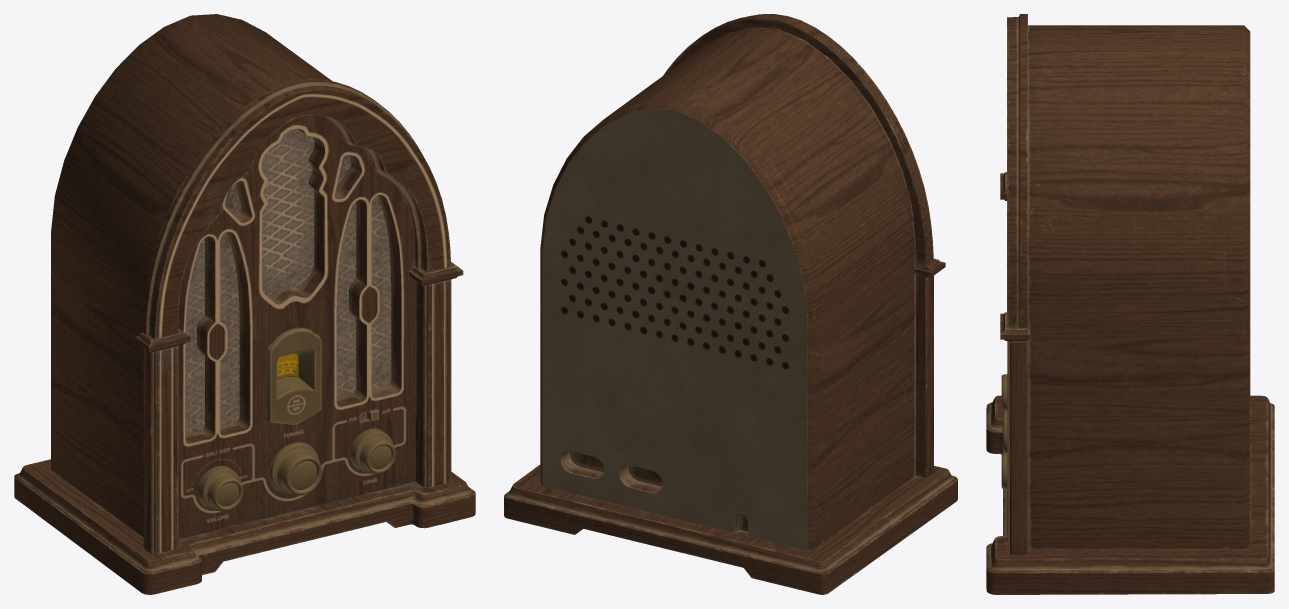
The model's file is cathedral_radio.glb.
3 renders of one model, left to right at view 1: azimuth 30°, elevation 25°; view 2: azimuth 150°, elevation 25°; view 3: azimuth 270°, elevation 25°, orthographic. The views are drawn at different scales.
Visible parts, largest first — view 1: Cathedral_Radio; view 2: Cathedral_Radio; view 3: Cathedral_Radio.
Part boxes in pixels (left/top/right/bottom): Cathedral_Radio: left=14, top=14, right=475, bottom=594; Cathedral_Radio: left=504, top=14, right=957, bottom=594; Cathedral_Radio: left=986, top=14, right=1274, bottom=594.
Size of the model in its own units: 0.3711 by 0.4901 by 0.2644.
1 material, 1 textured.
